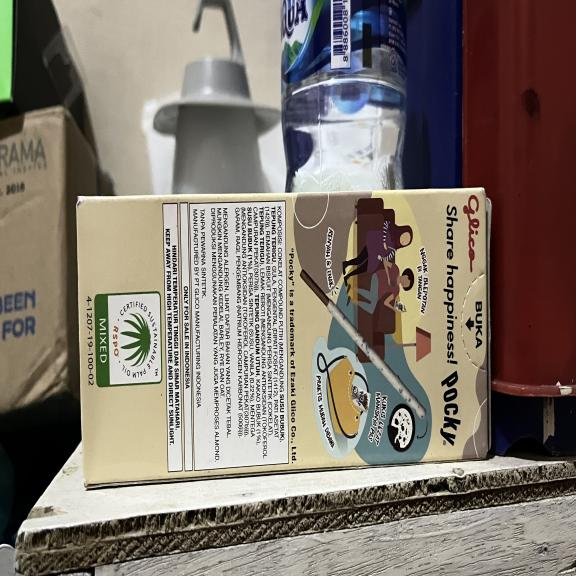Kertas: (79, 189, 489, 488)
